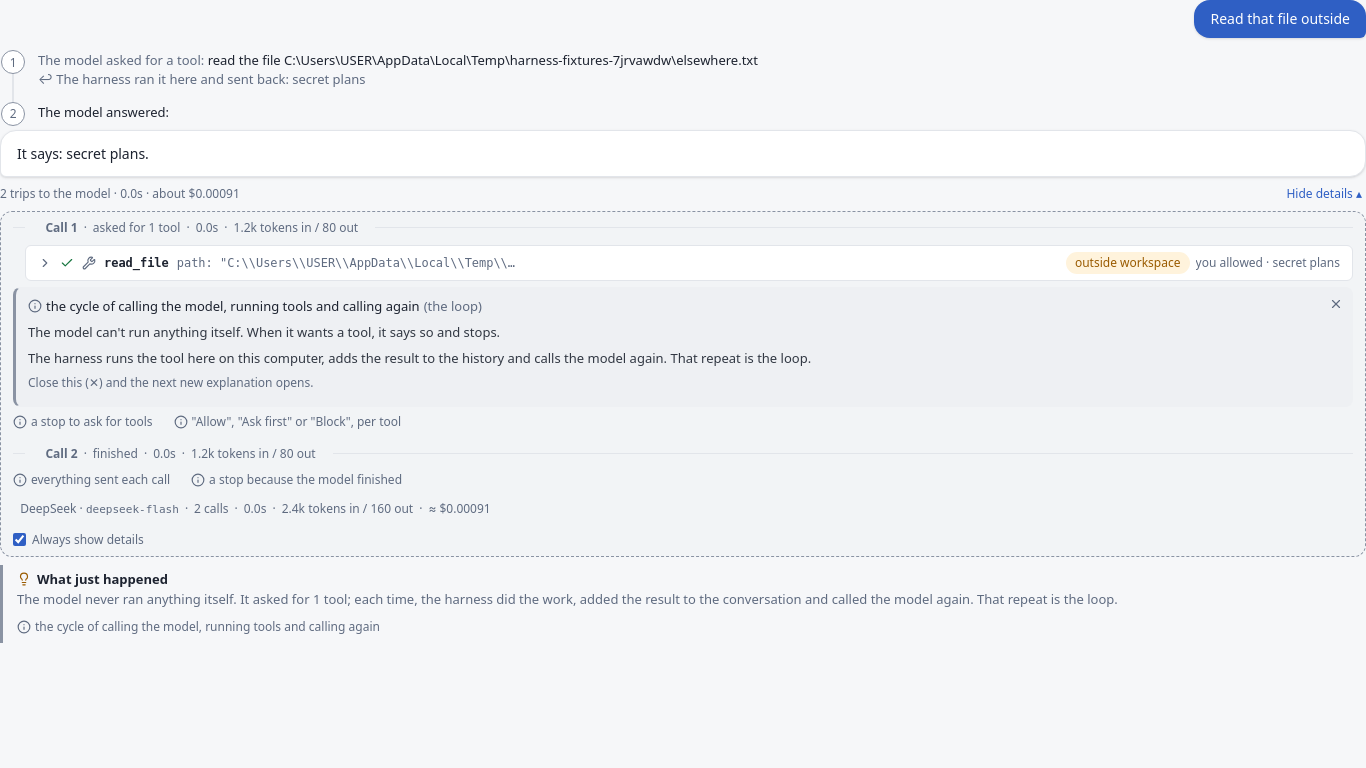
rows and cards › an allowed row says how long you took, not "You allowed it" twice
Step 1. Click the button that starts with "read_file" → (136, 263), box [26, 246, 1352, 280]
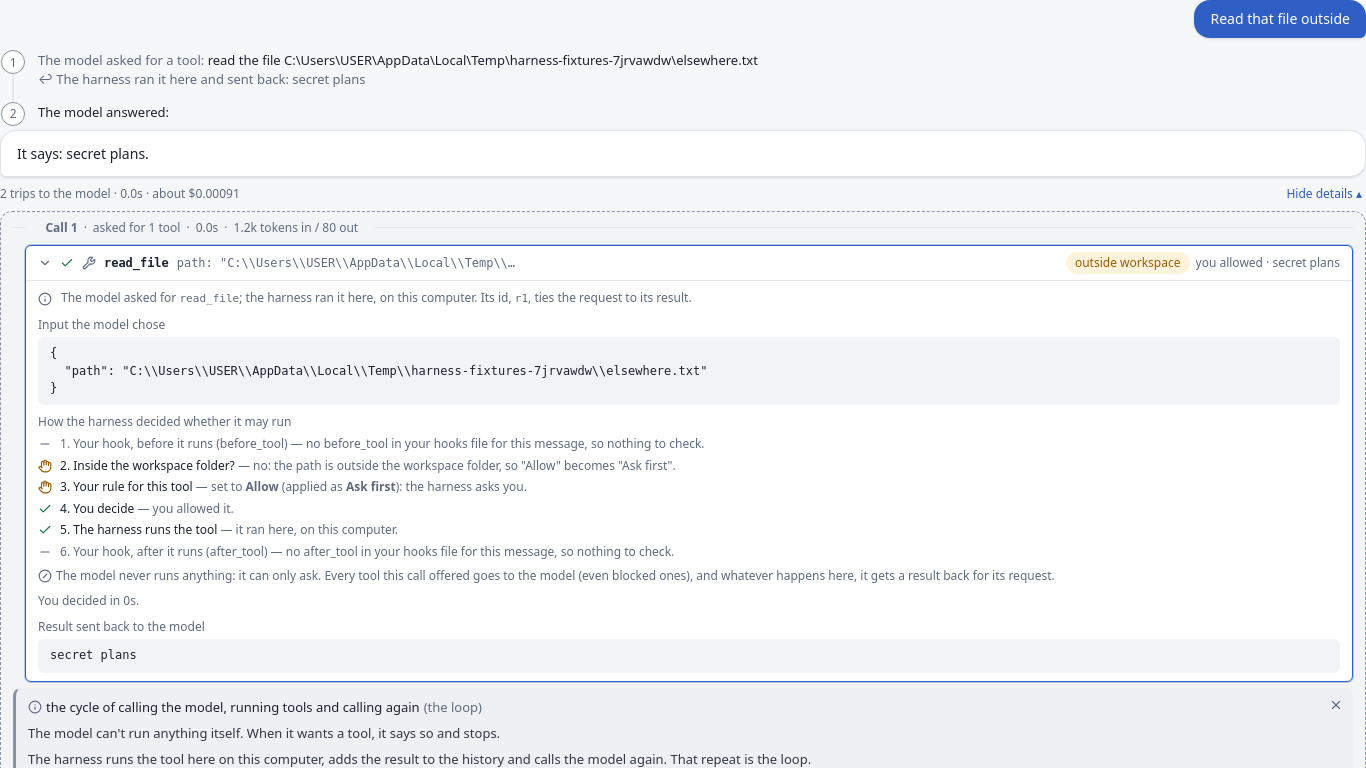
expect the text "You decided in 0s." is shown: met, box [38, 592, 139, 609]
